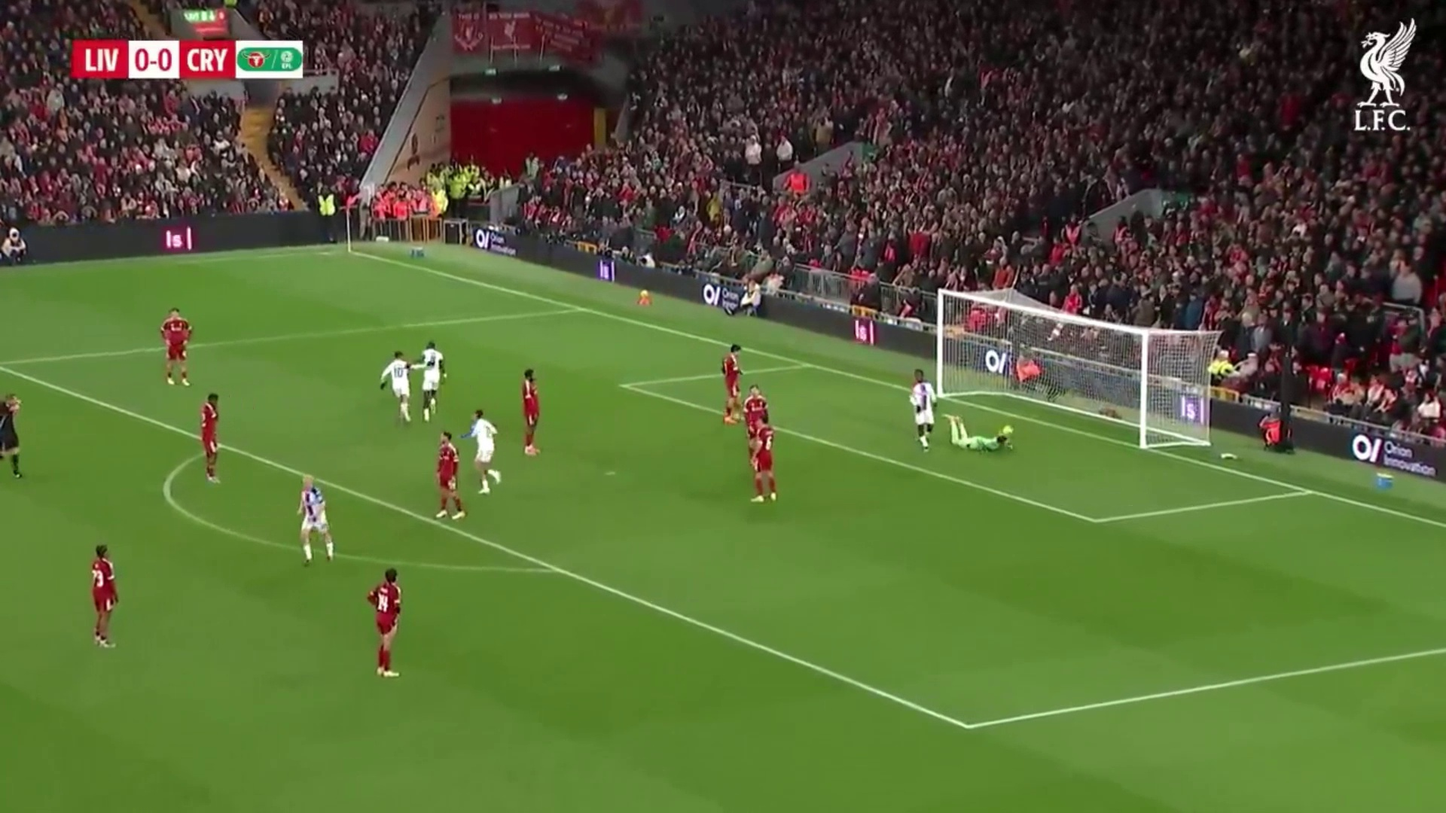player: (741, 388, 778, 502), (367, 568, 404, 679), (297, 476, 334, 570), (89, 544, 118, 647), (467, 409, 501, 496), (431, 433, 465, 519), (160, 309, 194, 386), (380, 351, 412, 425), (416, 341, 444, 422), (0, 395, 26, 480), (197, 392, 222, 480), (909, 372, 937, 449), (520, 369, 542, 457), (720, 344, 743, 424)
